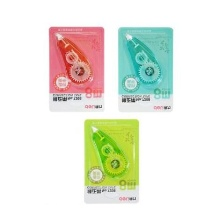book: (46, 24, 107, 113), (115, 25, 175, 114), (81, 118, 141, 204)
correction_fluid: (88, 124, 131, 180), (52, 31, 93, 86), (122, 31, 163, 86)
